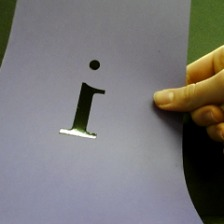violet1: (54, 55, 112, 144)
